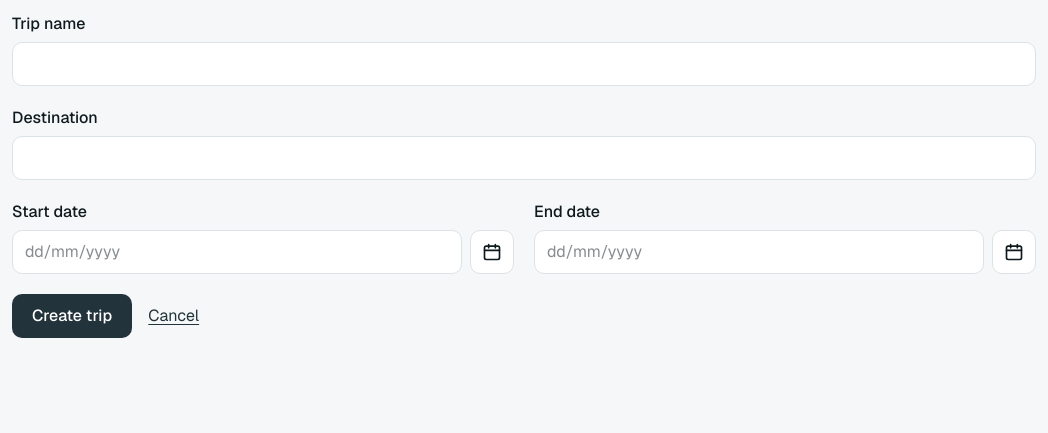
Test case: TripForm › clears old field errors when a later save fails
Type "Chiang Mai" into the field labelled "Destination" at (524, 158), box [12,136,1036,180]
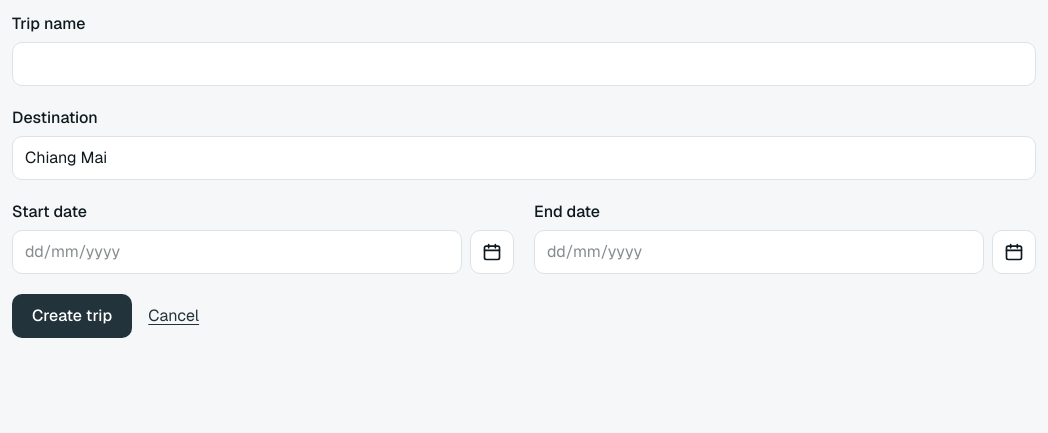
Type "01/12/2026" into the field labelled "Start date" at (237, 252), box [12,230,462,274]
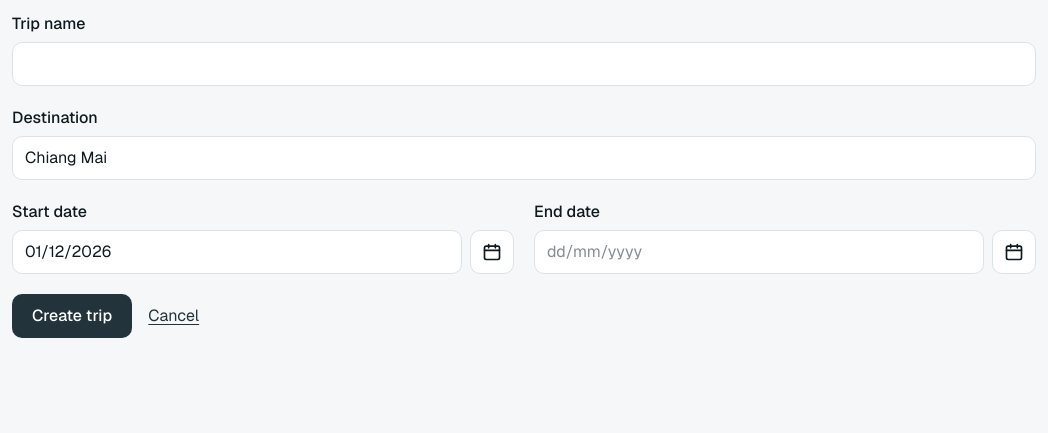
Type "05/12/2026" into the field labelled "End date" at (759, 252), box [534,230,984,274]
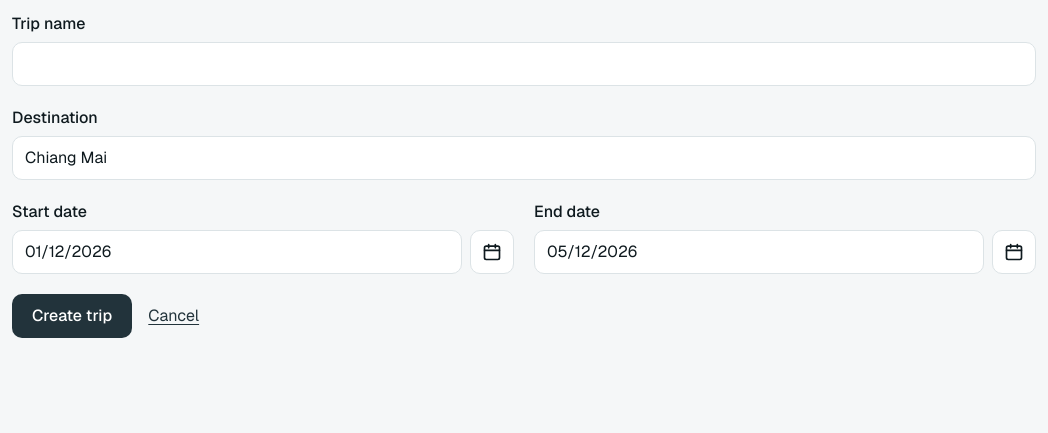
Click the button "Create trip" at (72, 316), box [12,294,132,338]
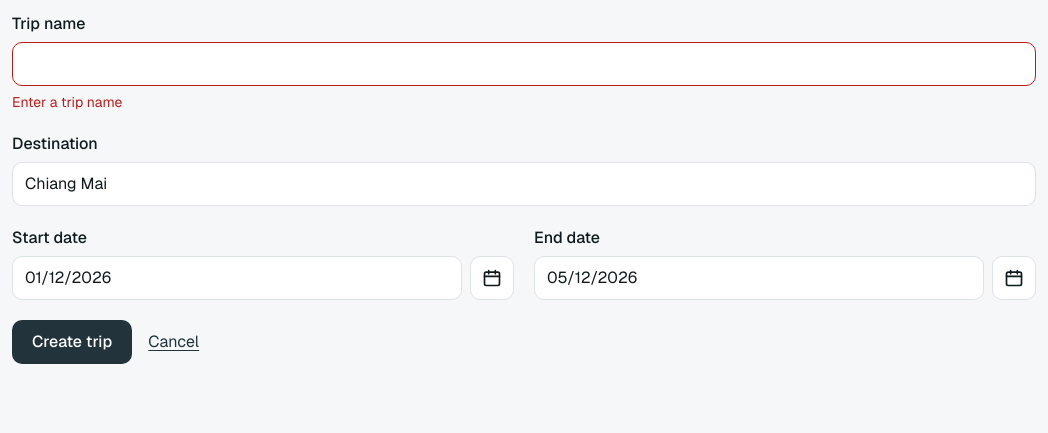
Expected: the text "Enter a trip name" is shown, [12,93,122,111]
Type "Northern loop" into the field labelled "Trip name" at (524, 64), box [12,42,1036,86]
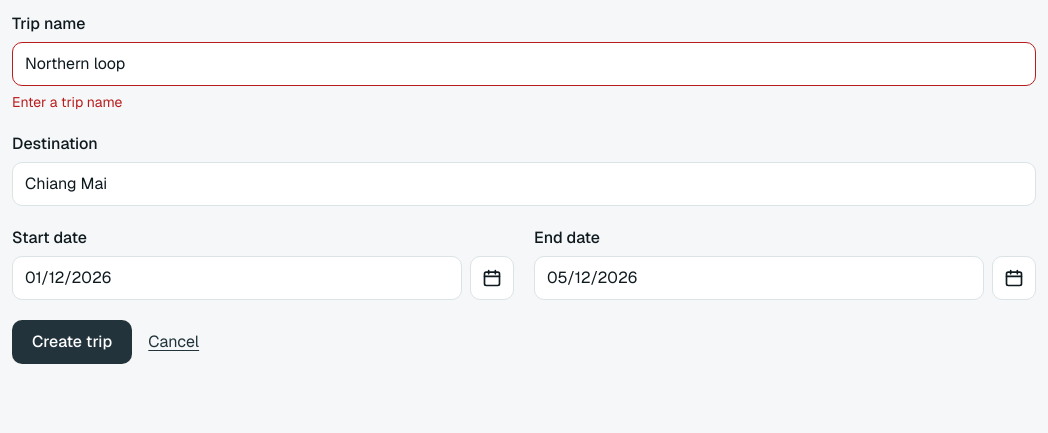
Click the button "Create trip" at (72, 342), box [12,320,132,364]
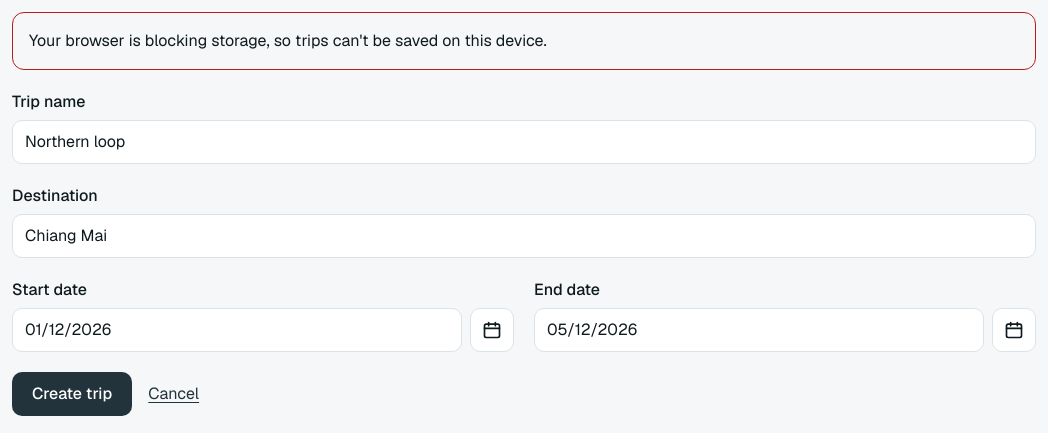
Expected: the message "Your browser is blocking storage, so trips can't be saved on this device." is shown, [12,12,1036,70]
Expected: the text "Enter a trip name" is gone
